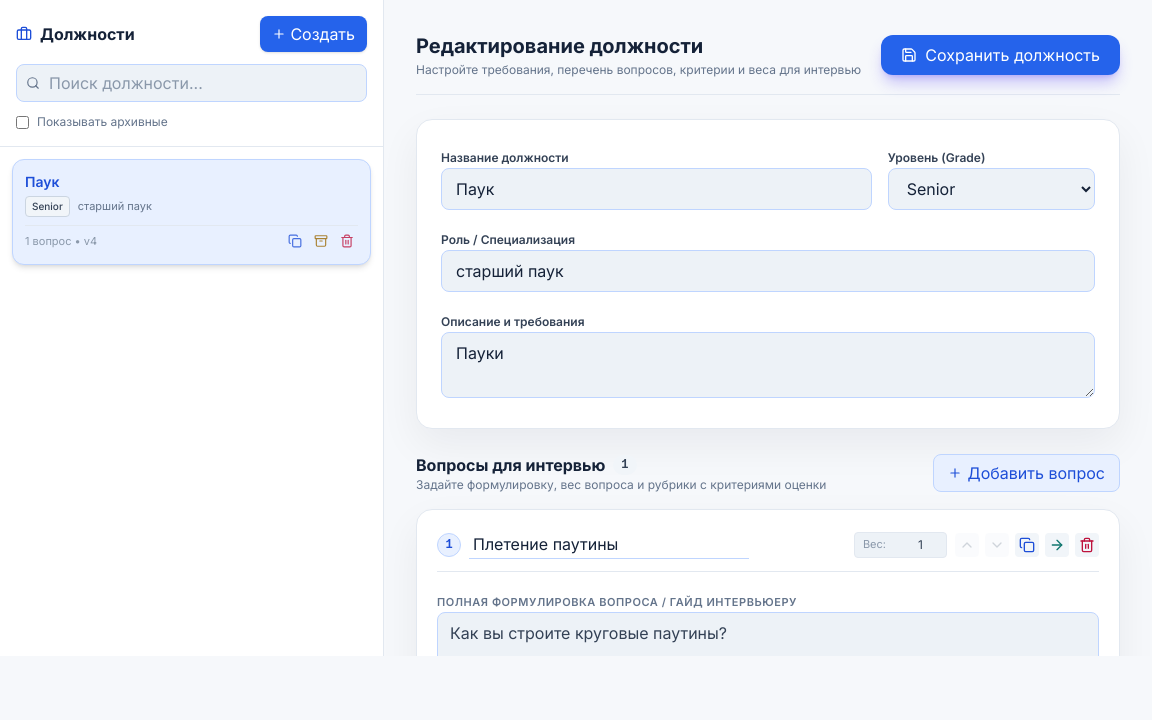
it: JobTemplatesScreen Component › switches to create mode when clicking "+ Создать" without resetting back to first template
The image size is (1152, 720).
Check: the heading "Редактирование должности" is shown, box [416,34,703,58]
Note: Click "+ Создать" button in sidebar header
Click the button "Создать" at (314, 34), box [260,16,367,52]
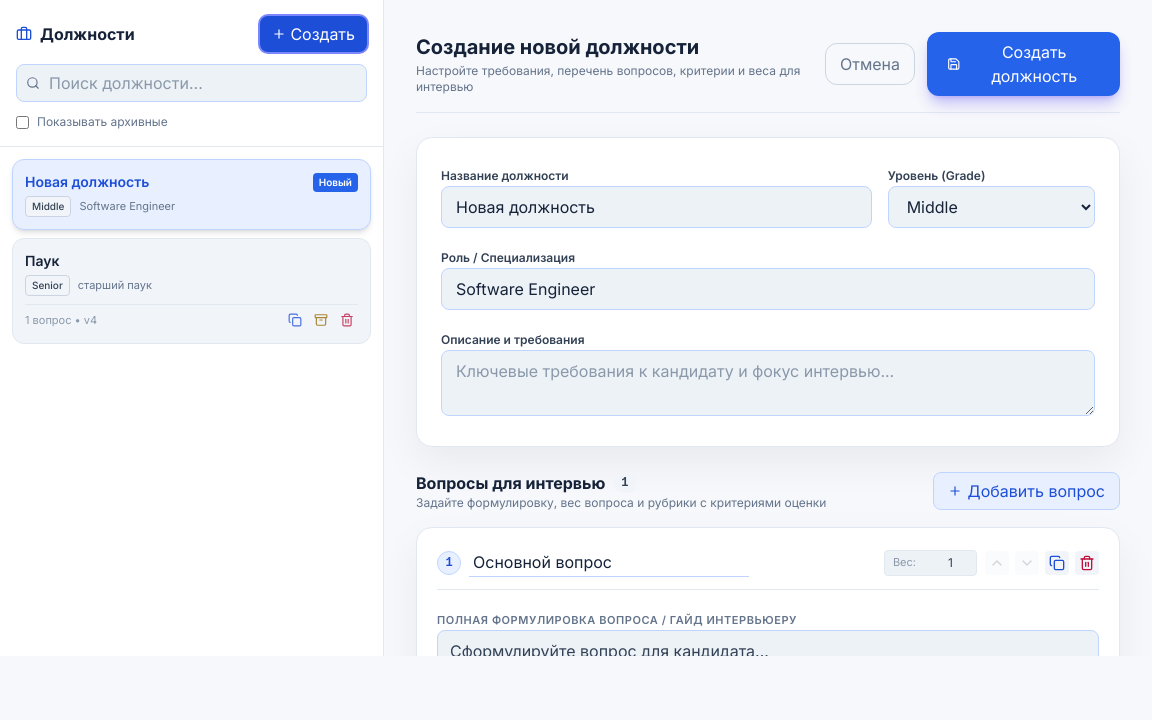
Check: the heading "Создание новой должности" is shown, box [416,35,699,59]
Check: the field showing "Новая должность" below "Название должности" is shown, box [441,186,872,228]
Check: the field showing "Software Engineer" below "Роль / Специализация" is shown, box [441,268,1095,310]
